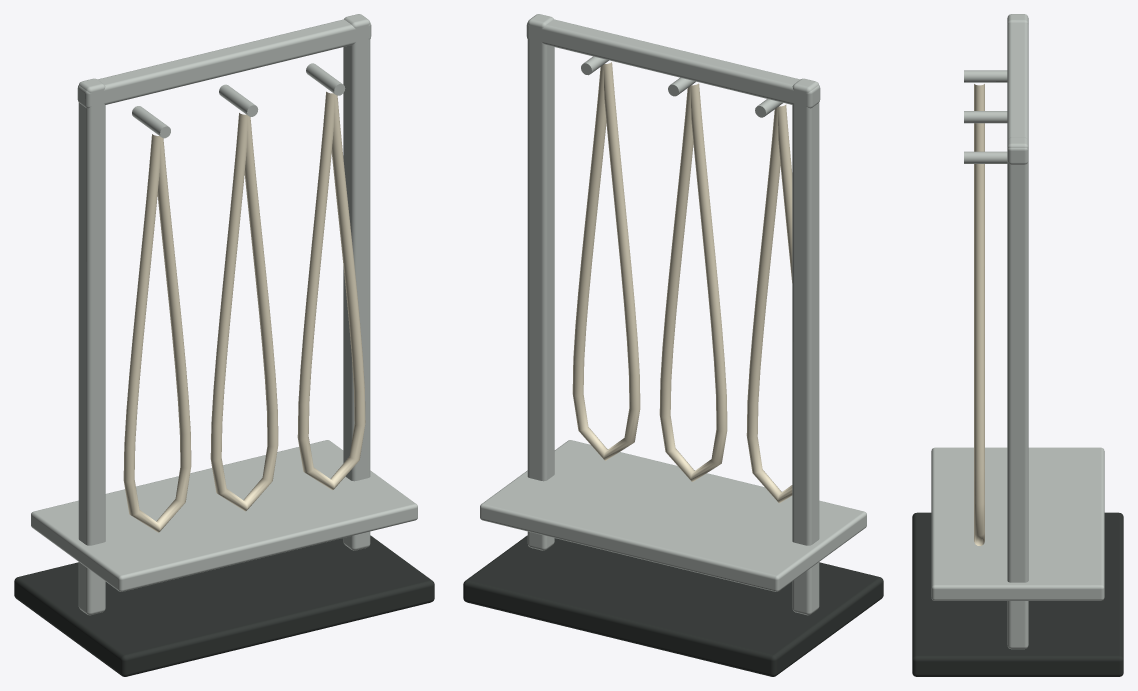
Rendered from spacecraft-thermal-test-chamber-lifting-sling-rack-954cbf95__32065.glb.
The picture shows the model from 3 angles, left to right: view 1: azimuth 30°, elevation 25°; view 2: azimuth 150°, elevation 25°; view 3: azimuth 270°, elevation 25°; orthographic projection. The views are drawn at different scales.
Visible parts, largest first — view 1: lifting-sling-rack; view 2: lifting-sling-rack; view 3: lifting-sling-rack.
Part boxes in pixels (bbox=[...]): lifting-sling-rack: bbox=[14, 14, 434, 676]; lifting-sling-rack: bbox=[463, 14, 883, 676]; lifting-sling-rack: bbox=[912, 14, 1123, 676].
Size of the model in its own units: 0.9 by 1.51 by 0.55.
